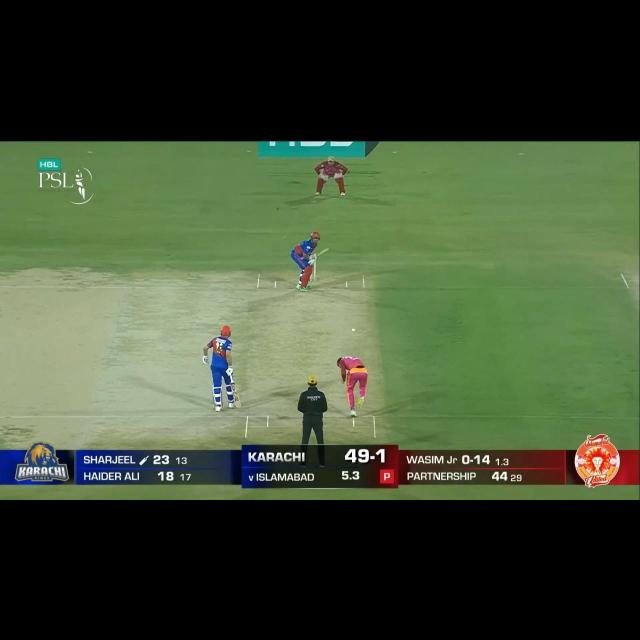bat: (230, 382, 241, 409), (315, 248, 330, 258)
toe: (234, 402, 241, 408), (325, 248, 330, 251)
